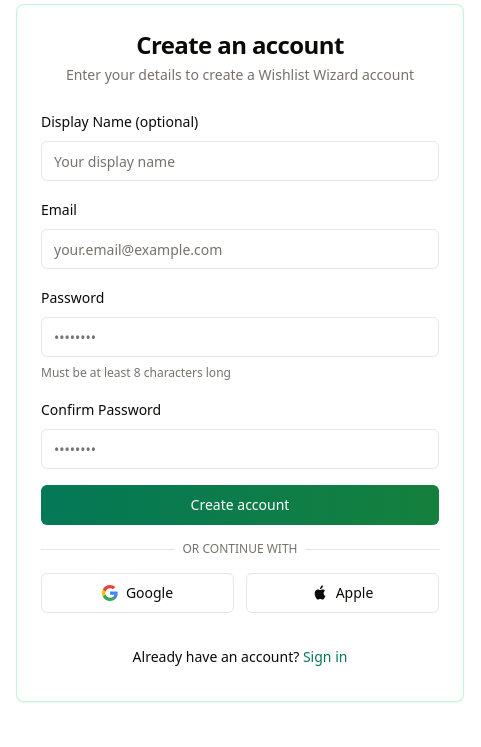
Scenario: Auth Pages Submission › blocks register submit when the authoritative policy check fails
Type "user@example.com" into the field labelled "Email" at (240, 249), box 41,229 -> 439,269
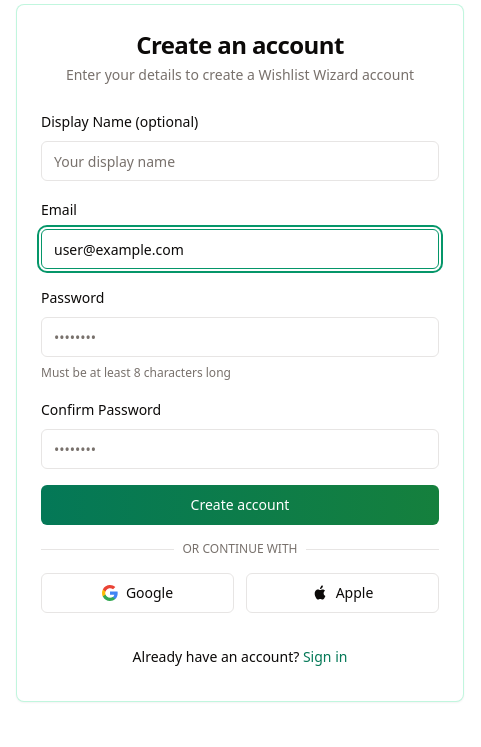
Type "Secret123!" into the password field labelled "Password" at (240, 337), box 41,317 -> 439,357
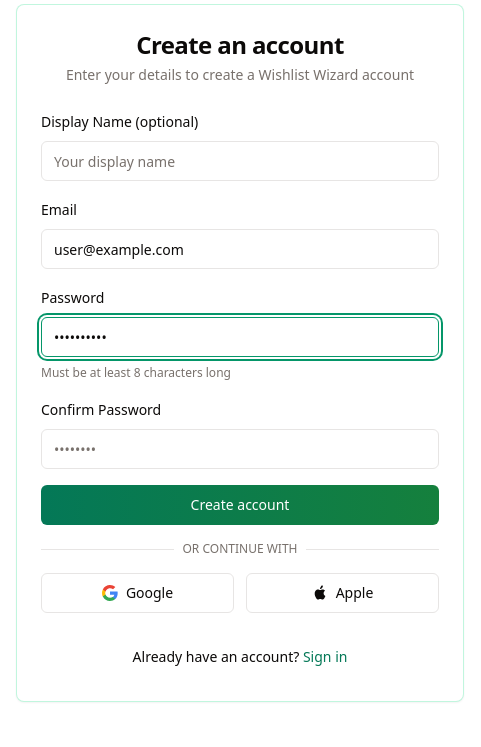
Type "Secret123!" into the password field labelled "Confirm Password" at (240, 449), box 41,429 -> 439,469
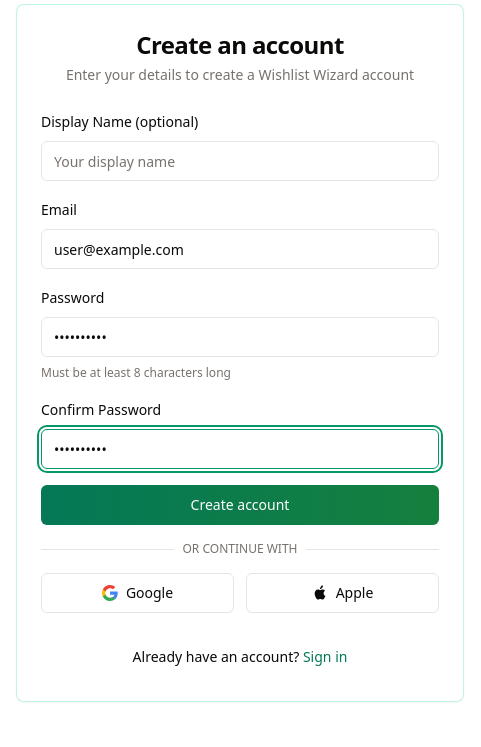
Submit the form named "Create account", box 41,109 -> 439,525
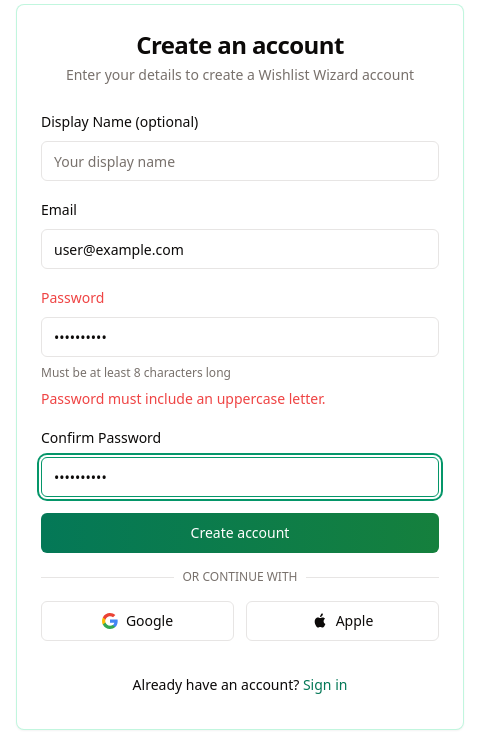
Now the text "Password must include an uppercase letter." is shown, box 41,389 -> 326,408
